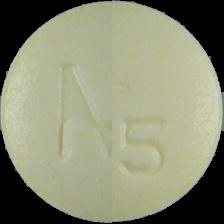53808-0702: (0, 0, 224, 224)
